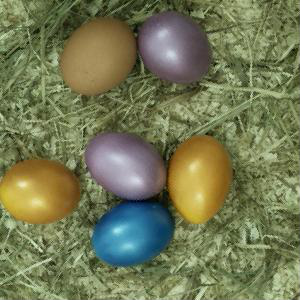egg: (60, 17, 138, 95), (90, 200, 175, 268), (168, 133, 231, 224), (85, 132, 167, 201), (139, 12, 212, 85), (1, 159, 80, 222)
